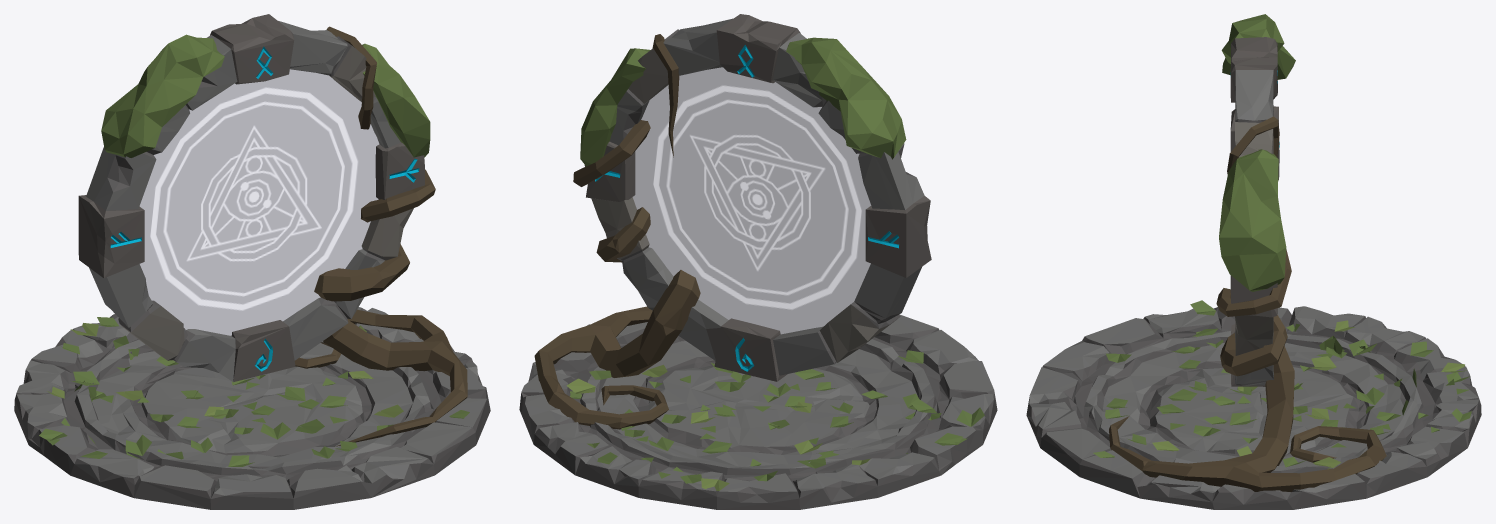
The model's file is portal.glb.
3 renders of one model, left to right at view 1: azimuth 30°, elevation 25°; view 2: azimuth 150°, elevation 25°; view 3: azimuth 270°, elevation 25°, orthographic. The views are drawn at different scales.
Visible parts, largest first — view 1: Portal_01, Portal_01_Hole; view 2: Portal_01, Portal_01_Hole; view 3: Portal_01.
Part boxes in pixels (bbox=[...]): Portal_01: bbox=[14, 14, 490, 509]; Portal_01_Hole: bbox=[139, 69, 379, 335]; Portal_01: bbox=[519, 14, 997, 509]; Portal_01_Hole: bbox=[632, 67, 871, 334]; Portal_01: bbox=[1026, 14, 1481, 509].
Size of the model in its own units: 2.58 by 2.33 by 2.59.
Materials: 2 (1 with a texture image).
